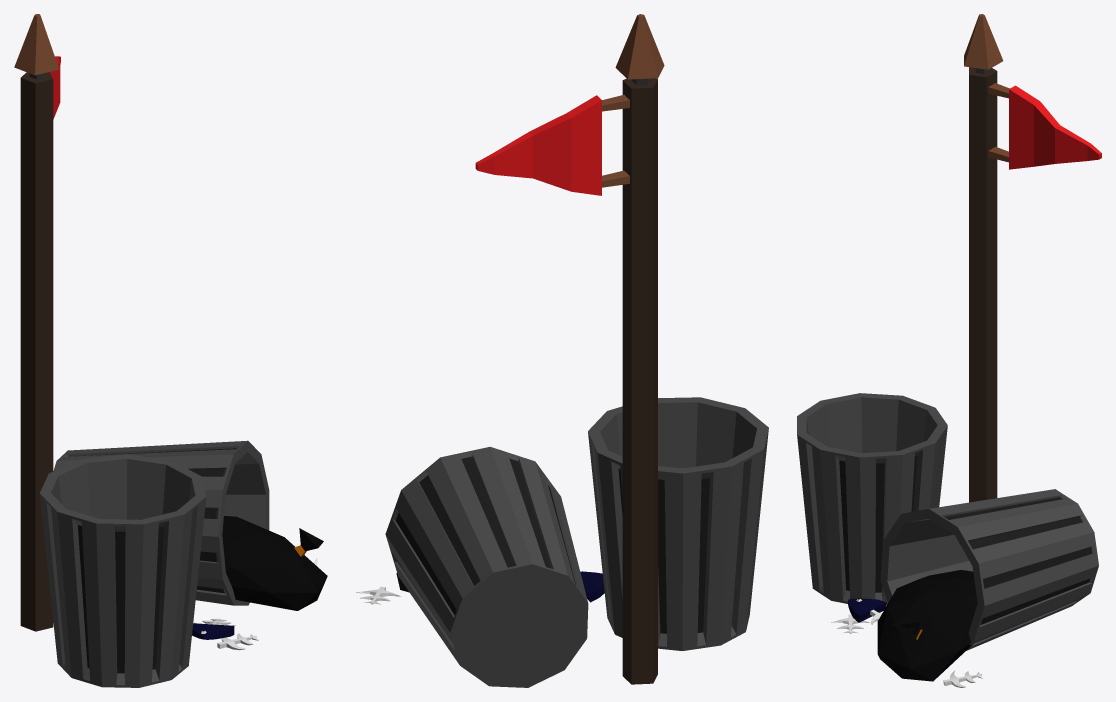
File: Goal.fbx
3 renders of one model, left to right at view 1: azimuth 30°, elevation 25°; view 2: azimuth 150°, elevation 25°; view 3: azimuth 270°, elevation 25°, orthographic. The views are drawn at different scales.
Parts seen in each view (by area): view 1: Cube; view 2: Cube; view 3: Cube.
Part boxes in pixels (x1,y1,x2,y2): Cube: (14,14,327,687); Cube: (356,14,768,687); Cube: (797,14,1101,687).
Size of the model in its own units: 158 by 290 by 144.
